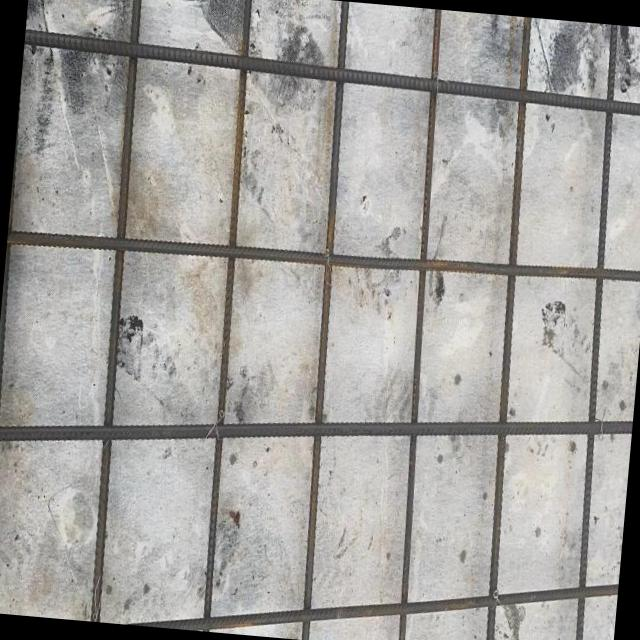ribbed bar: (0, 363, 632, 492), (22, 28, 640, 118), (6, 213, 640, 299), (376, 8, 462, 640), (465, 16, 549, 640), (553, 24, 638, 640), (284, 1, 365, 640), (187, 0, 265, 630), (77, 0, 156, 621), (134, 539, 618, 640), (0, 75, 33, 611)
